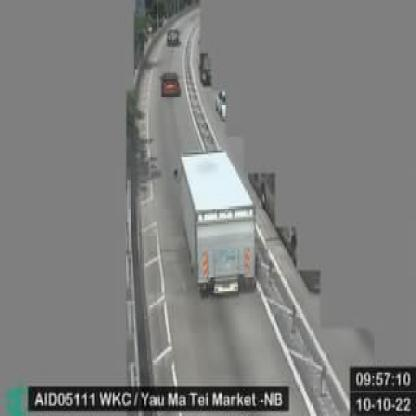Car: (161, 72, 180, 98), (166, 28, 179, 46)
Truck: (178, 152, 256, 305)
